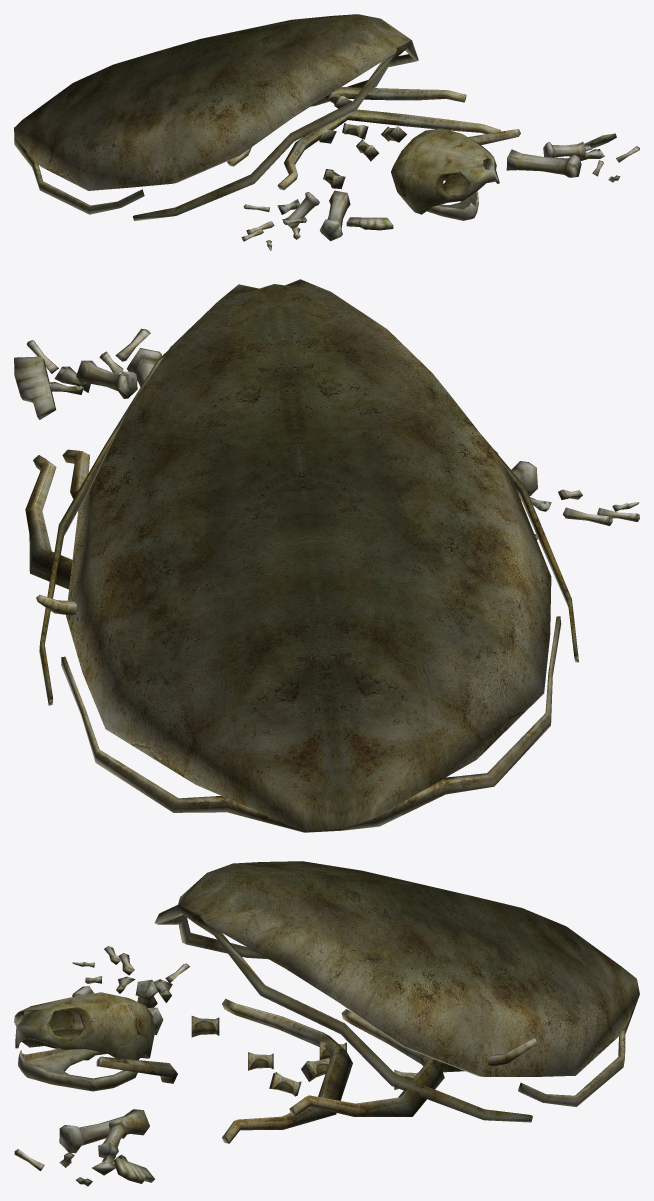
The model's file is bone_turtle_all00.fbx.
3 renders of one model, top to bottom at view 1: azimuth 30°, elevation 25°; view 2: azimuth 150°, elevation 25°; view 3: azimuth 270°, elevation 25°, orthographic. The views are drawn at different scales.
Parts seen in each view (by area): view 1: bone_turtle_all00; view 2: bone_turtle_all00; view 3: bone_turtle_all00.
Boxes of the visible parts, x1=… form: bone_turtle_all00: x1=14, y1=14, x2=639, y2=250; bone_turtle_all00: x1=14, y1=279, x2=639, y2=832; bone_turtle_all00: x1=14, y1=861, x2=639, y2=1186.
Bounding box in the file's own units: 8.86 × 3.67 × 8.52.
